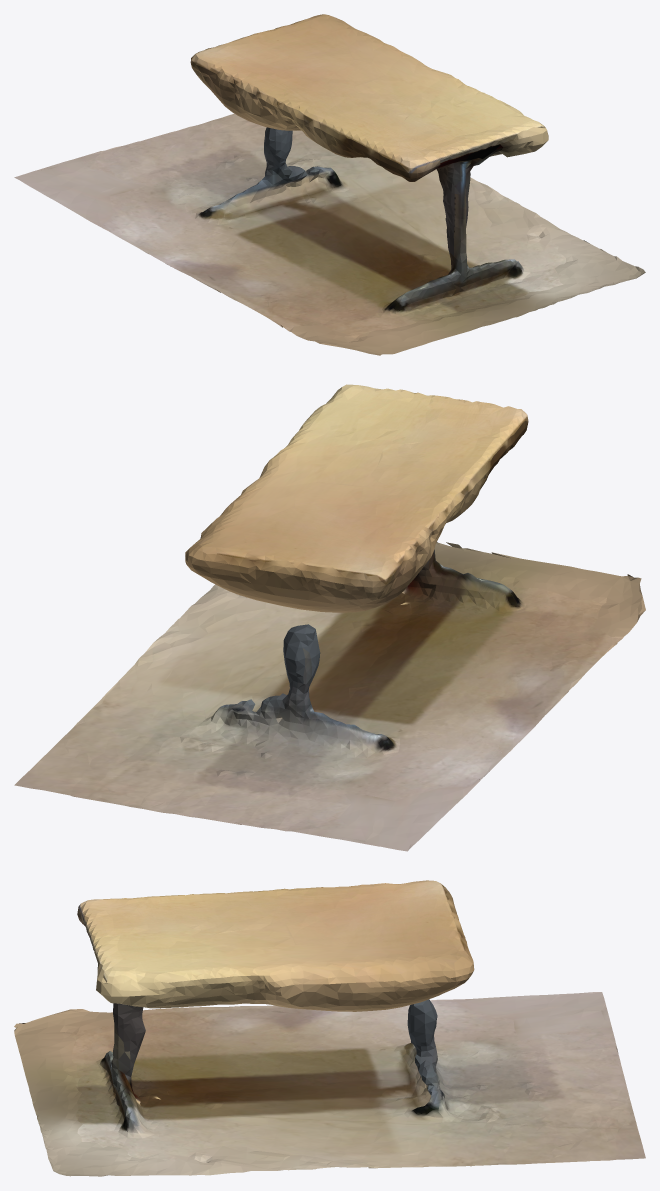
Rendered from table-2.glb.
3 views of the same model, one above another, from view 1: azimuth 30°, elevation 25°; view 2: azimuth 150°, elevation 25°; view 3: azimuth 270°, elevation 25° (orthographic). The views are drawn at different scales.
Bounding box in the file's own units: 1.82 × 0.781 × 2.57.
1 material, 1 textured.
